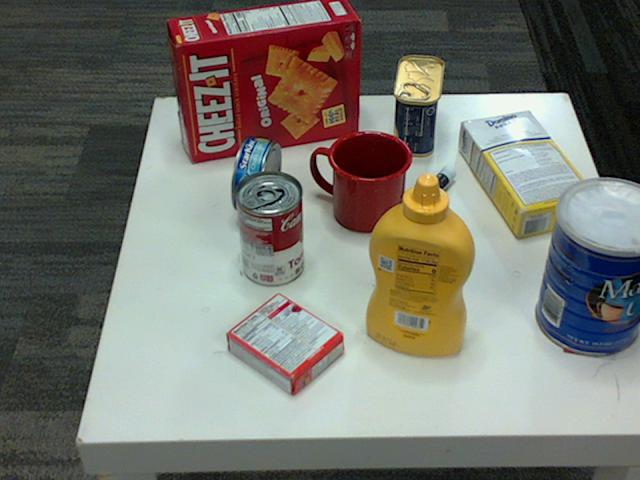cracker_box: (167, 0, 358, 159)
gelatin_box: (222, 292, 340, 397)
large_marker: (394, 169, 456, 232)
master_chef_can: (537, 178, 639, 357)
mug: (310, 128, 412, 231)
mustard_bottle: (365, 174, 475, 356)
potted_meat_can: (391, 57, 442, 157)
sugar_box: (459, 111, 598, 238)
tomato_soup_can: (235, 170, 303, 286)
tuna_fish_can: (230, 135, 280, 214)
